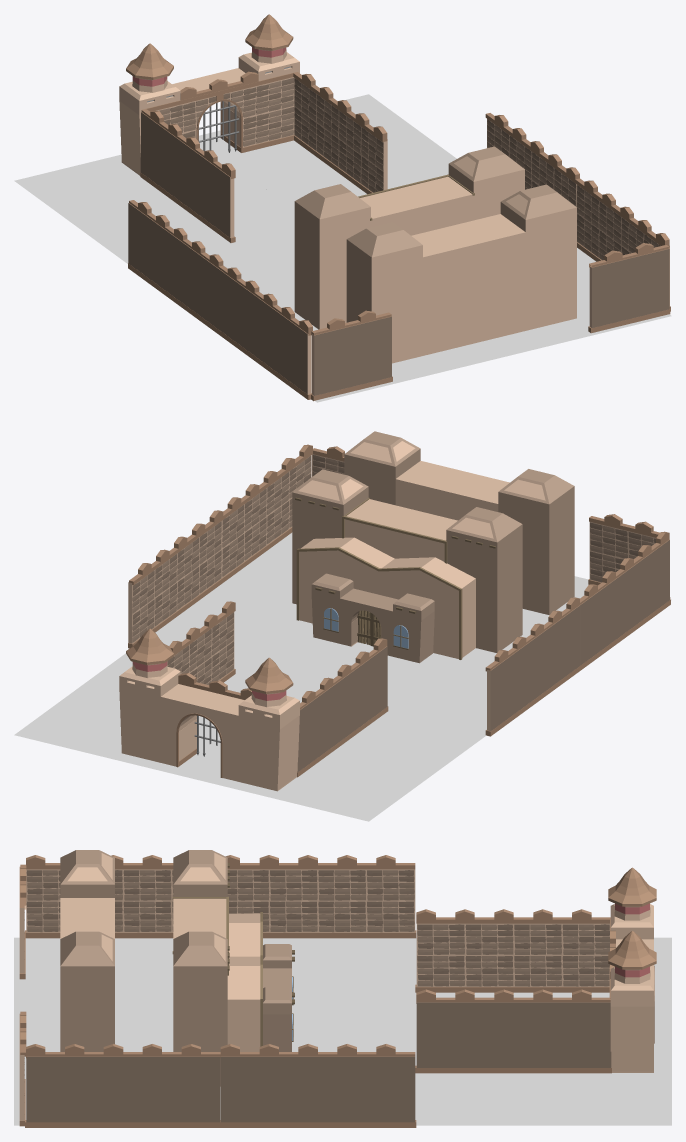
Rendered from level3.fbx.
3 views of the same model, one above another, from view 1: azimuth 30°, elevation 25°; view 2: azimuth 150°, elevation 25°; view 3: azimuth 270°, elevation 25° (orthographic). The views are drawn at different scales.
Visible parts, largest first — view 1: walls, Plane, Cube.002, Cube.001, frontwall, tower, fence; view 2: walls, Plane, Cube.001, Cube.002, frontwall, Cube, castlefront, tower, Cube.006, castlefence, Cube.003; view 3: walls, Plane, Cube.002, Cube.001, frontwall, Cube, tower, castlefront, Cube.006.
Part boxes in pixels (box(x1,y1,x2,y2)): walls: box(128, 71, 670, 401); Plane: box(14, 94, 671, 402); Cube.002: box(346, 184, 576, 363); Cube.001: box(294, 146, 524, 329); frontwall: box(119, 52, 299, 175); tower: box(126, 14, 293, 92); fence: box(198, 101, 239, 152); walls: box(128, 444, 670, 777); Plane: box(14, 532, 671, 821); Cube.001: box(292, 469, 522, 652); Cube.002: box(344, 431, 574, 615); frontwall: box(119, 666, 299, 791); Cube: box(299, 537, 475, 658); castlefront: box(295, 497, 495, 663); tower: box(126, 628, 293, 707); Cube.006: box(296, 516, 462, 659); castlefence: box(357, 610, 381, 646); Cube.003: box(323, 608, 408, 649); walls: box(19, 855, 654, 1127); Plane: box(14, 937, 671, 1125); Cube.002: box(60, 850, 114, 1051); Cube.001: box(173, 850, 227, 1086); frontwall: box(610, 904, 653, 1072); Cube: box(227, 913, 260, 1051); tower: box(608, 867, 656, 983); castlefront: box(227, 863, 294, 1051); Cube.006: box(226, 897, 262, 1046).
Bounding box in the file's own units: 24827 × 8276 × 35949.
